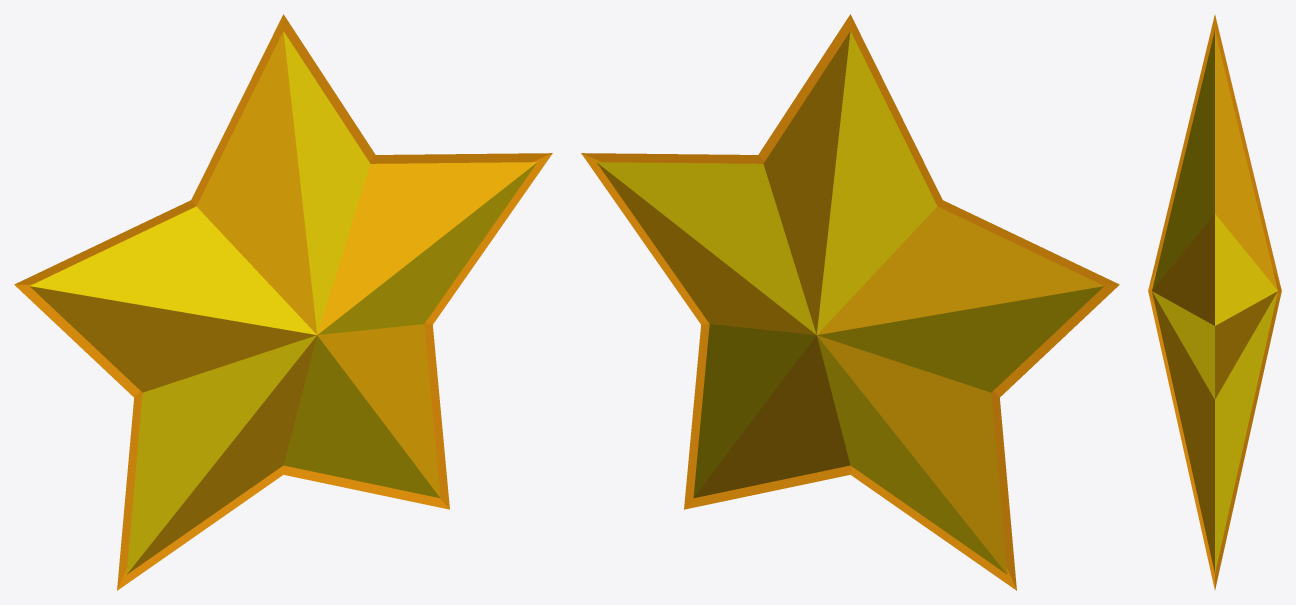
Rendered from star.glb.
3 views of the same model, side by side, from view 1: azimuth 30°, elevation 25°; view 2: azimuth 150°, elevation 25°; view 3: azimuth 270°, elevation 25° (orthographic). The views are drawn at different scales.
Parts seen in each view (by area): view 1: Star; view 2: Star; view 3: Star.
Part boxes in pixels (x1,y1,x2,y2): Star: (14, 14, 552, 590); Star: (581, 14, 1119, 590); Star: (1148, 15, 1281, 589).
Size of what is drawn, in the model's own units: 1.47 by 1.39 by 0.3371.
2 materials, 2 textured.
